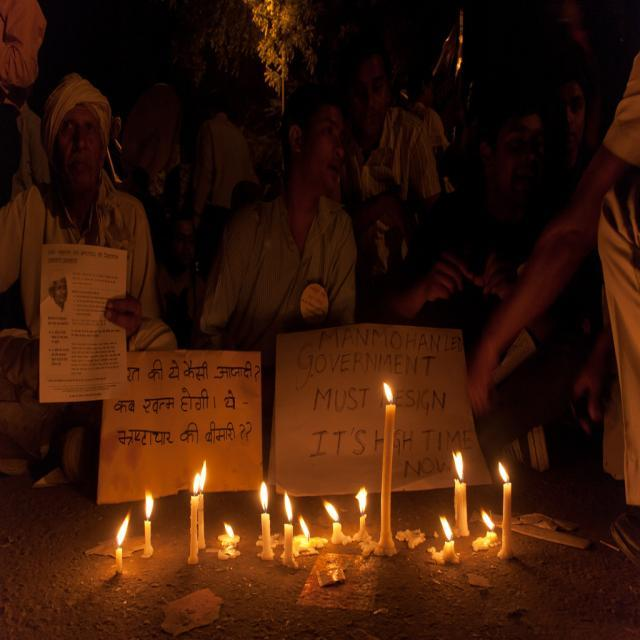Fire: (116, 515, 132, 547), (192, 459, 206, 492), (142, 491, 156, 519), (453, 451, 466, 476), (359, 486, 369, 518), (284, 490, 293, 524), (259, 484, 269, 512), (300, 518, 312, 540), (498, 462, 511, 480), (384, 379, 392, 408), (326, 500, 338, 518), (444, 515, 450, 548), (224, 520, 234, 538), (484, 516, 498, 528)
